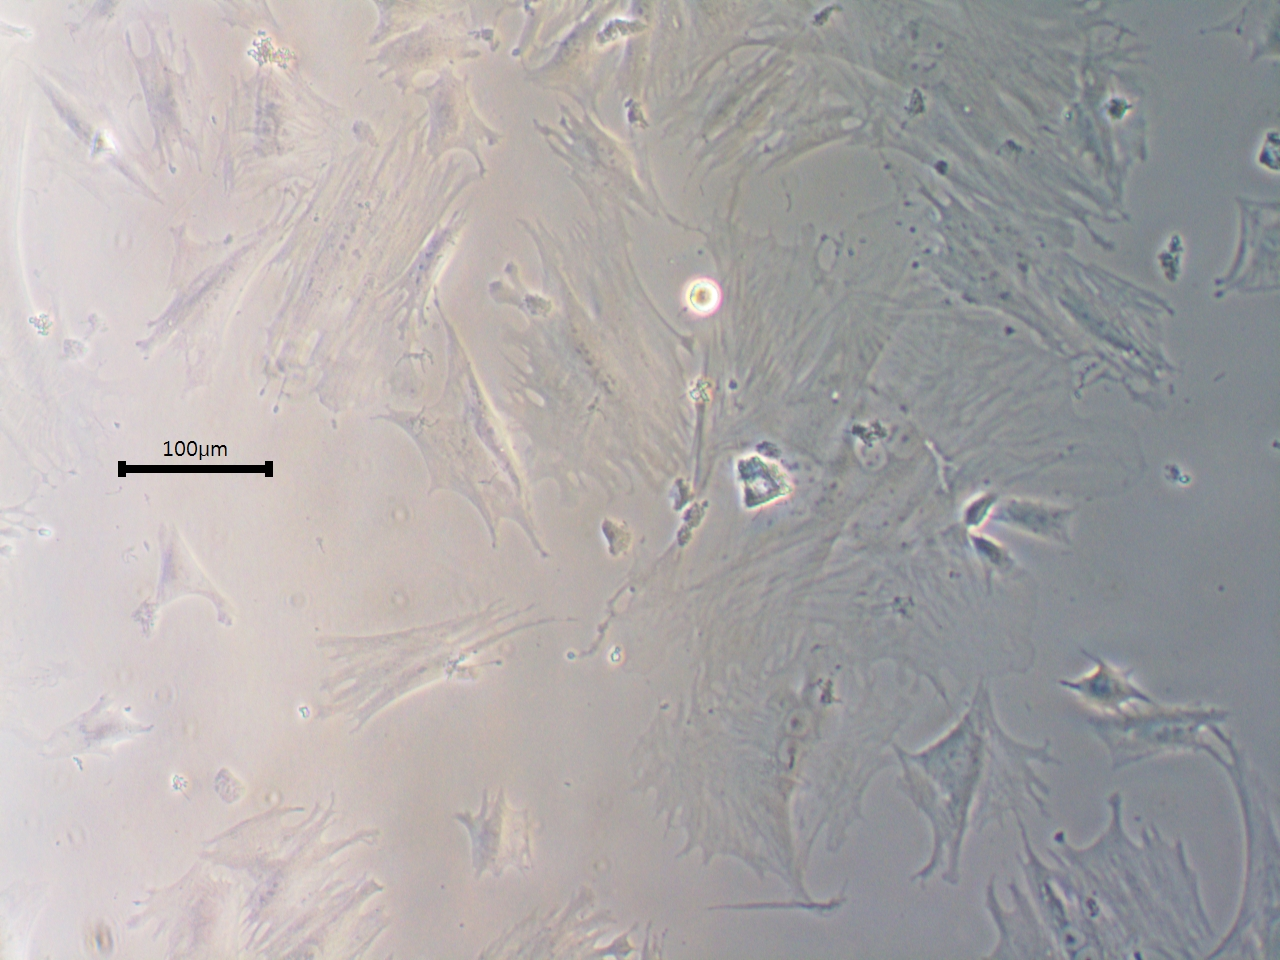dividing: (528, 104, 651, 219)
medium-spread: (302, 589, 562, 758), (135, 206, 275, 397), (896, 678, 1023, 883), (119, 28, 203, 169)
small-polygonal: (125, 511, 250, 651)
small-round: (686, 276, 721, 315)
small-spread: (419, 67, 512, 163), (389, 215, 465, 329), (455, 784, 538, 879)
